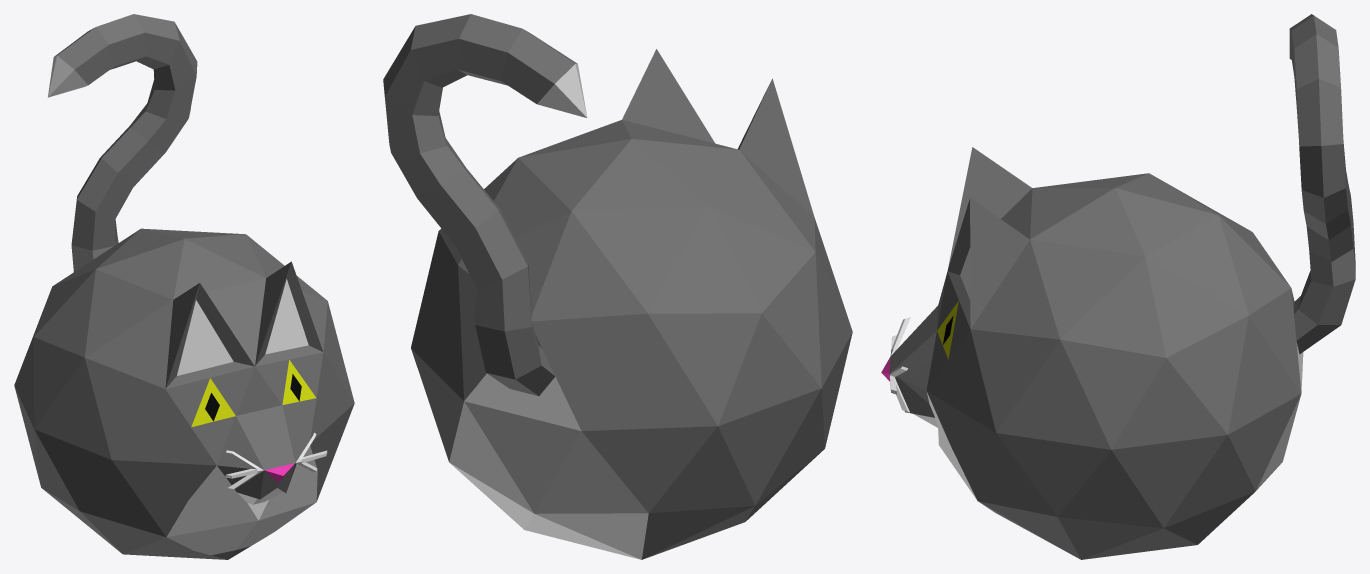
File: cat.glb
3 views of the same model, side by side, from view 1: azimuth 30°, elevation 25°; view 2: azimuth 150°, elevation 25°; view 3: azimuth 270°, elevation 25° (orthographic). The views are drawn at different scales.
Visible parts, largest first — view 1: Kitty.001; view 2: Kitty.001; view 3: Kitty.001.
Boxes of the visible parts, x1,y1,x2,y2 form: Kitty.001: (14,14,354,559); Kitty.001: (383,14,852,559); Kitty.001: (881,14,1355,559).
Size of the model in its own units: 9.08 by 13.52 by 10.93.
